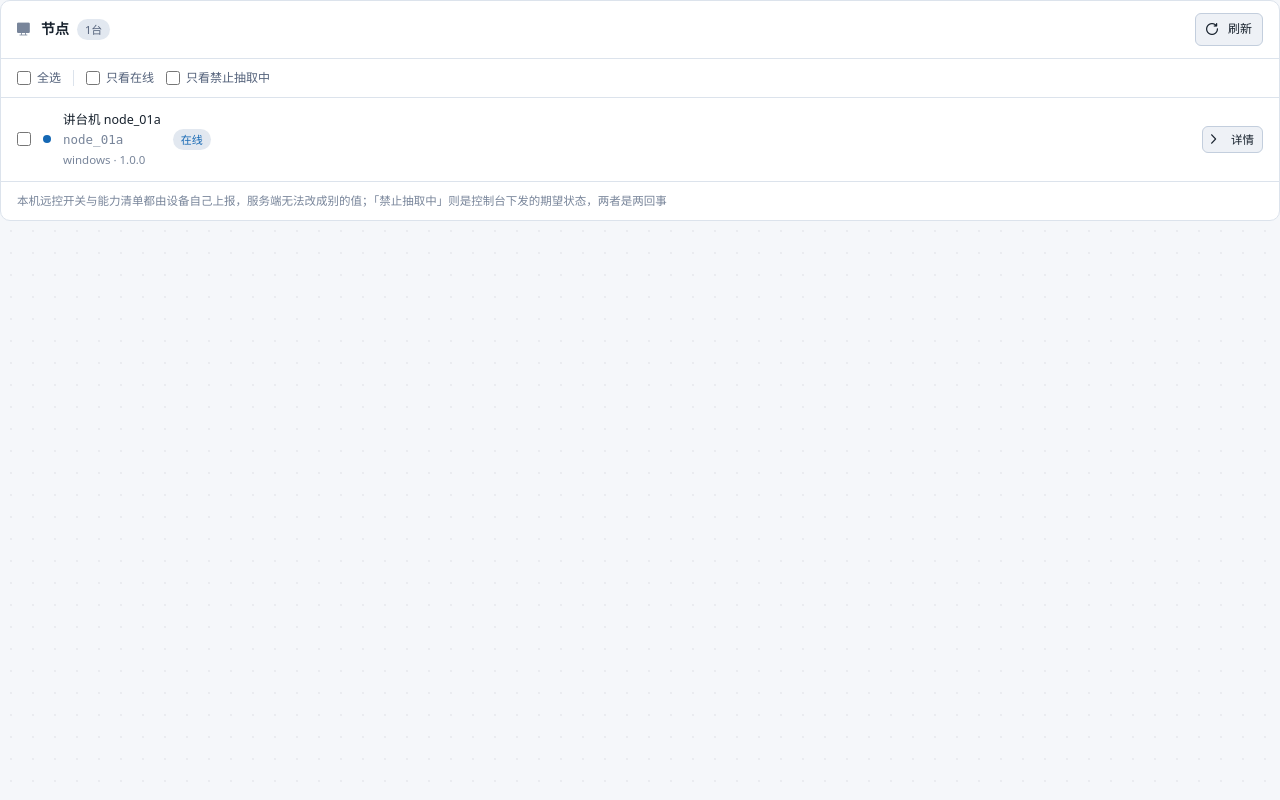
Test: NodeListPanel 的「统一配置」入口 › operator（非管理员）看不到这个入口：写设置在服务端要求 admin
This screenshot has width=1280, height=800.
What coordinates should you click on to do the following:
click the 4th checkbox
I would click on:
 (24, 140)
Its box is 17,132 -> 31,146.
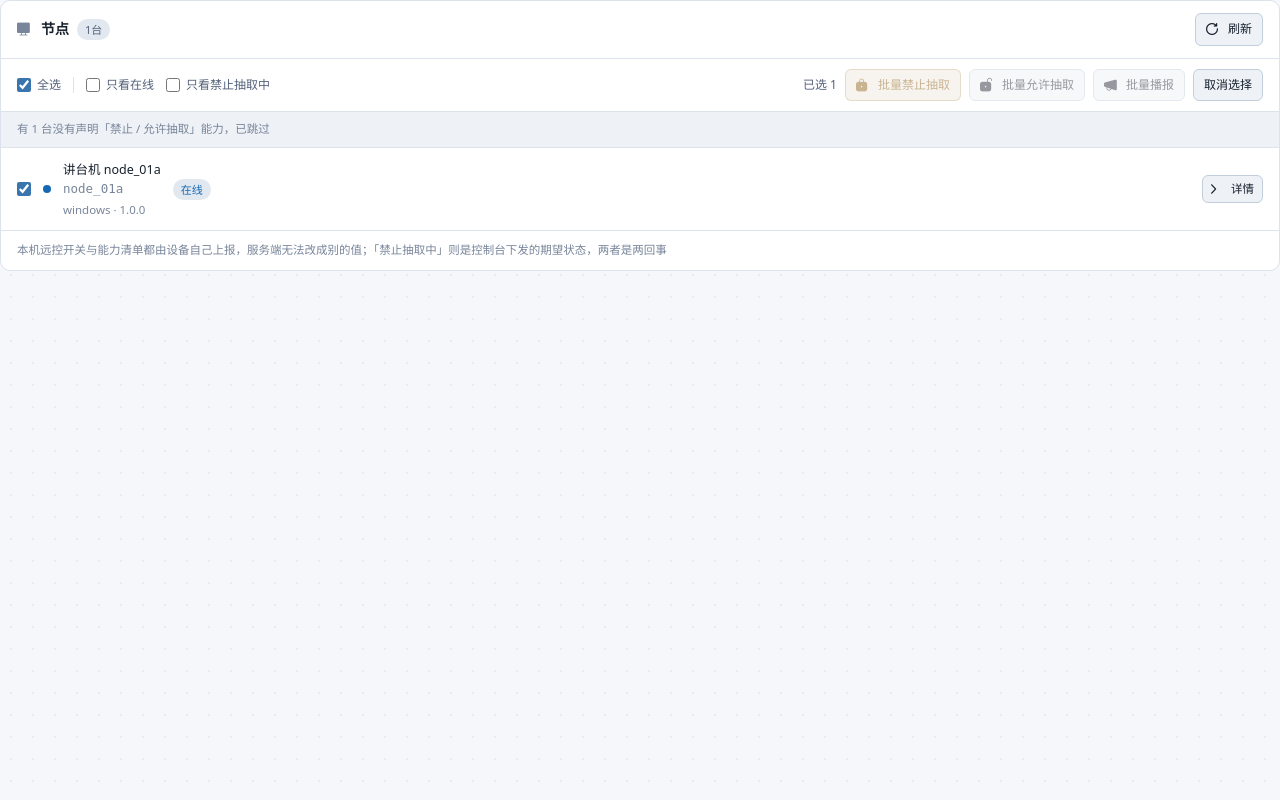
expect the element with test id "nodes-batch-bar" is shown: met, box 803,69 -> 1263,101
